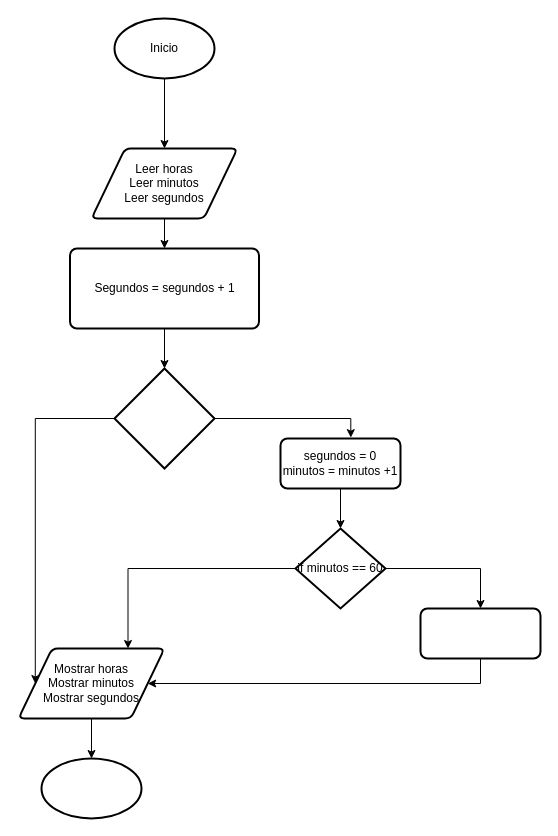
Some shapes in this 558 by 836 pixel diagram are drawn without their labels. The shapes that lost their labels are listed below. From the top down, each one's centre as x and y in pixels, then its label:
At (164,418): "if segundos == 60".
At (480,633): "minutos = 0 horas = horas +1".
At (91,788): "FIN".
